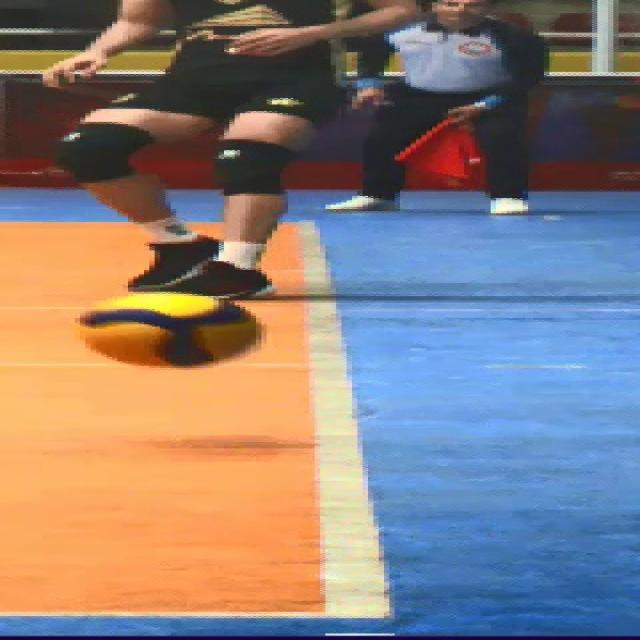Volleyball: (85, 292, 259, 367)
